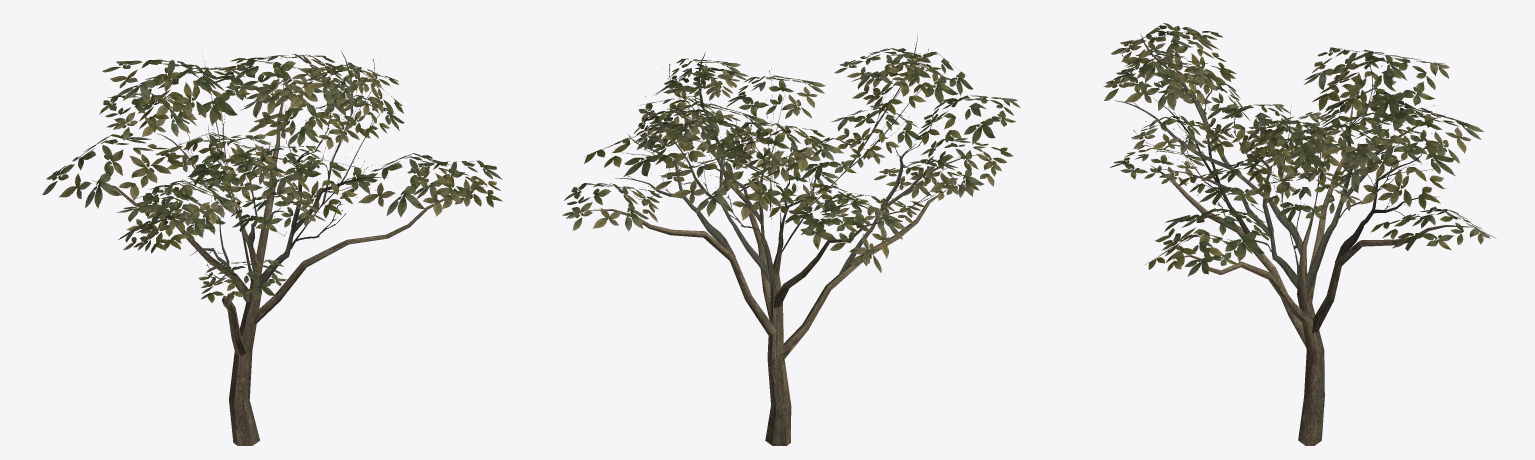
File: bg_anh_tree_tr_t16_sm_old.FBX
The picture shows the model from 3 angles, left to right: view 1: azimuth 30°, elevation 25°; view 2: azimuth 150°, elevation 25°; view 3: azimuth 270°, elevation 25°; orthographic projection. The views are drawn at different scales.
Parts seen in each view (by area): view 1: bg_anh_tree_tr_t16_sm_old; view 2: bg_anh_tree_tr_t16_sm_old; view 3: bg_anh_tree_tr_t16_sm_old.
Boxes of the visible parts, box(x1,y1,x2,y2) form: bg_anh_tree_tr_t16_sm_old: box(42, 49, 502, 445); bg_anh_tree_tr_t16_sm_old: box(562, 35, 1020, 445); bg_anh_tree_tr_t16_sm_old: box(1104, 23, 1496, 445).
Bounding box in the file's own units: 208 × 188 × 190.
